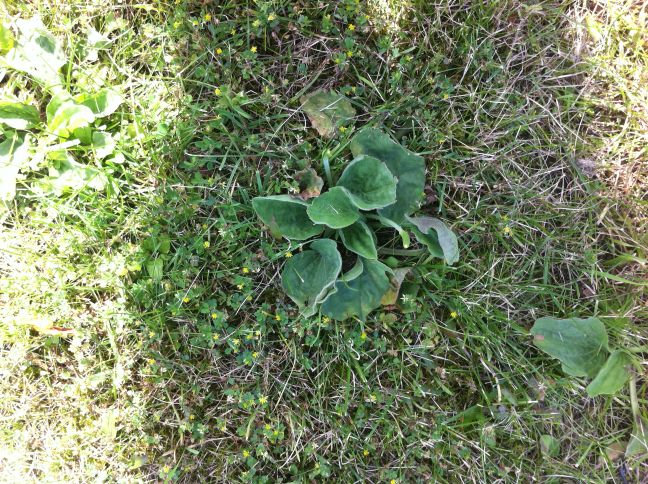weed1: (253, 125, 459, 324), (1, 20, 120, 196), (527, 313, 648, 464)
